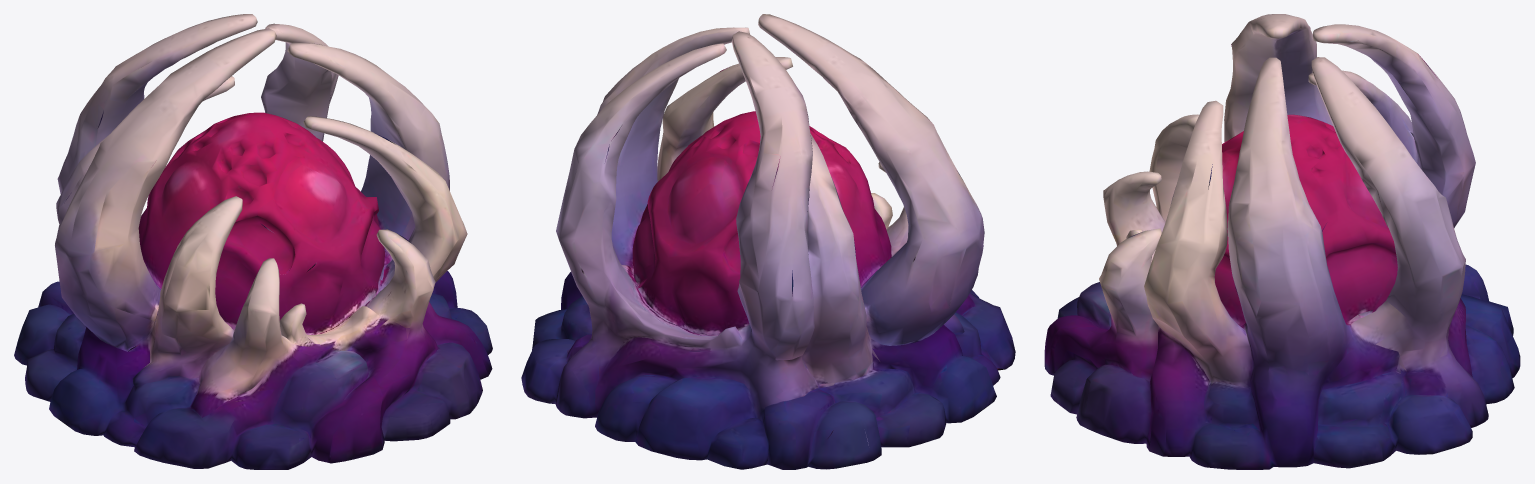
Rendered from hive_heart-d4M-z65H.glb.
3 views of the same model, side by side, from view 1: azimuth 30°, elevation 25°; view 2: azimuth 150°, elevation 25°; view 3: azimuth 270°, elevation 25° (orthographic). The views are drawn at different scales.
Parts seen in each view (by area): view 1: hive_heart; view 2: hive_heart; view 3: hive_heart.
Boxes of the visible parts, x1,y1,x2,y2 form: hive_heart: (14,14,492,469); hive_heart: (521,14,1015,469); hive_heart: (1044,14,1520,469).
Size of the model in its own units: 6.85 by 5.5 by 6.85.
1 material, 1 textured.
